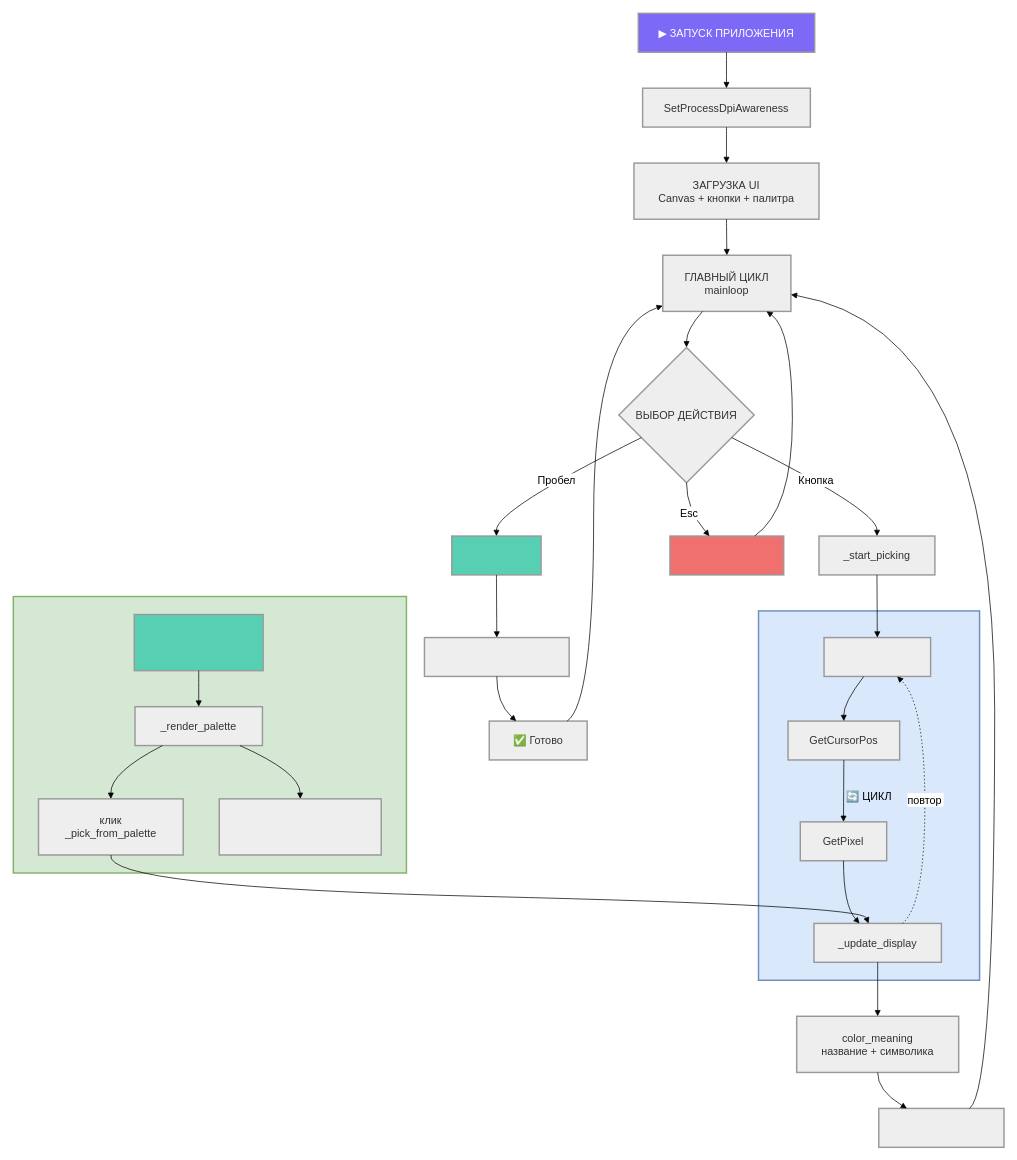
Image size: 1017x1160. Some labels were removed from this diagram. Each missing label, with the centre of its shape:
_capture: pixel 496 555
_copy_to_clipboard: pixel 496 656
_poll (50мс): pixel 877 656
_stop_picking: pixel 726 555
вывод на экран: pixel 941 1127
ПКМ _remove_from_palette: pixel 300 826
＋ В палитру _add_to_palette: pixel 198 642
